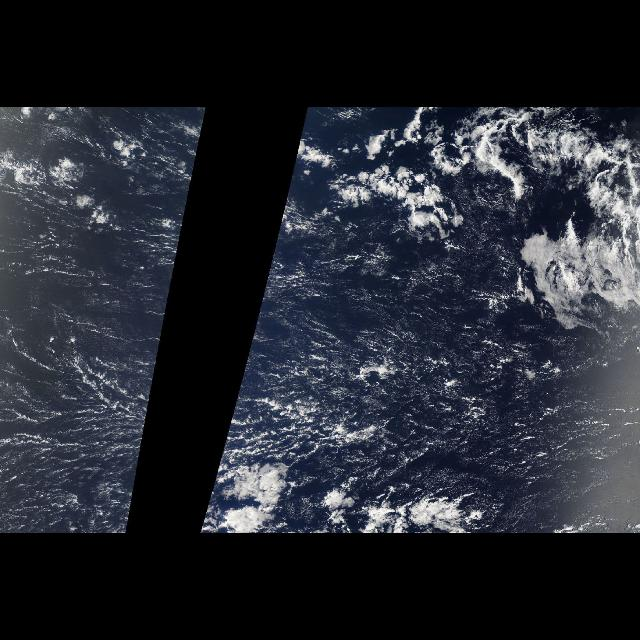Gravel: (217, 379, 421, 467), (38, 379, 154, 467)
Sugar: (217, 181, 478, 459), (4, 181, 192, 459)
